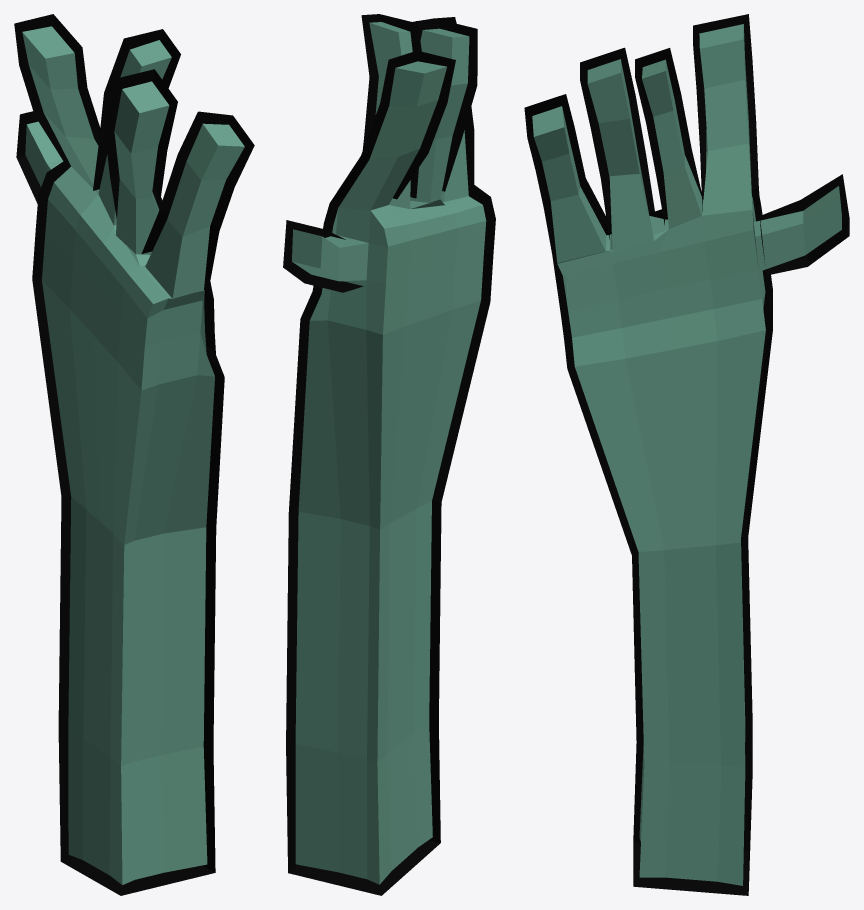
Rendered from ArmZombie.fbx.
3 renders of one model, left to right at view 1: azimuth 30°, elevation 25°; view 2: azimuth 150°, elevation 25°; view 3: azimuth 270°, elevation 25°, orthographic. The views are drawn at different scales.
Visible parts, largest first — view 1: Cube; view 2: Cube; view 3: Cube.
Part boxes in pixels (x1=…): Cube: x1=14, y1=14, x2=254, y2=895; Cube: x1=283, y1=14, x2=495, y2=895; Cube: x1=524, y1=14, x2=849, y2=895.
Bounding box in the file's own units: 10.12 × 58.19 × 21.02.
